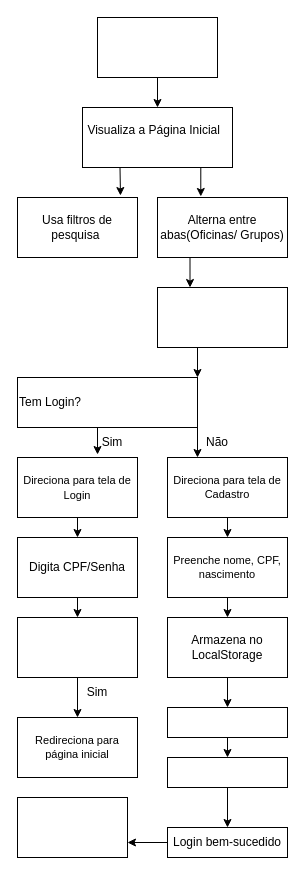
This 305x875 diagram has some shape labels left out. The shapes that lost their labels are listed below. From the top down, each one's box as (x1, y1, x2, y2) in pixels, then its label:
(96, 16, 218, 78): Acessa o Site
(156, 286, 288, 348): Tenta interagir com os Grupos
(16, 616, 138, 678): Dados Conferem?
(166, 706, 288, 738): Redireciona para o Login
(166, 756, 288, 788): Login com os novos dados
(16, 796, 128, 858): Agora pode interagir com os grupos criativos
